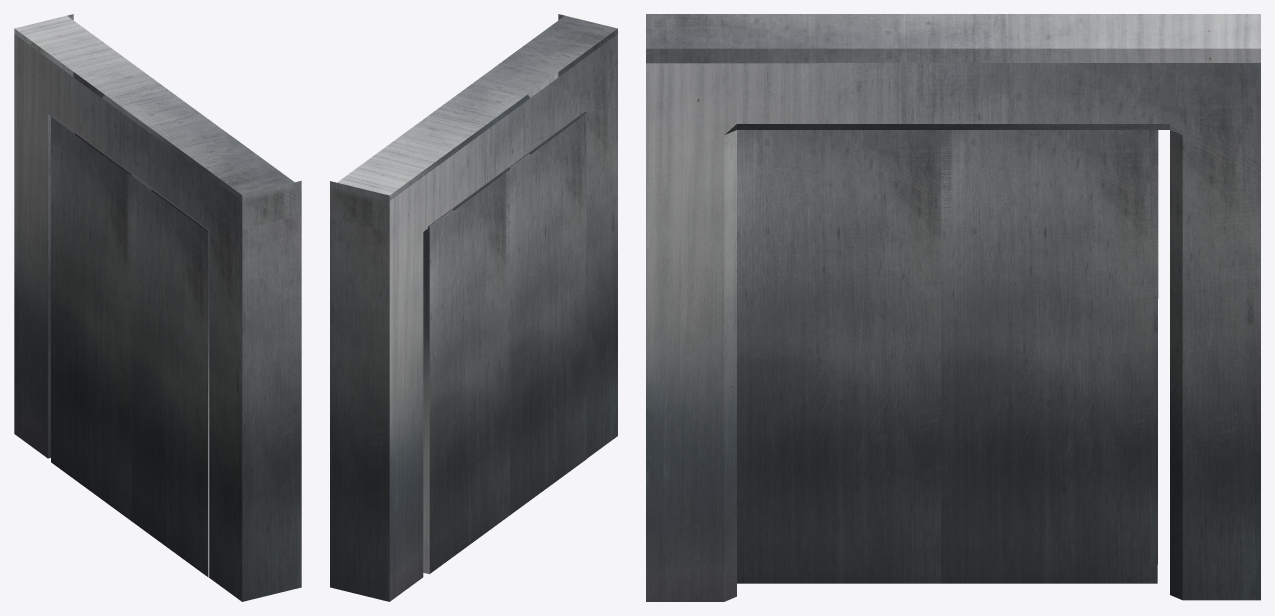
Rendered from LiftObj.FBX.
The picture shows the model from 3 angles, left to right: view 1: azimuth 30°, elevation 25°; view 2: azimuth 150°, elevation 25°; view 3: azimuth 270°, elevation 25°; orthographic projection. The views are drawn at different scales.
Parts seen in each view (by area): view 1: LiftFrame, DoorRight, DoorLeft; view 2: LiftFrame, DoorRight, DoorLeft; view 3: LiftFrame, DoorRight, DoorLeft.
Part boxes in pixels (x1,y1,x2,y2): LiftFrame: (14,14,301,601); DoorRight: (51,115,151,520); DoorLeft: (127,174,209,576); LiftFrame: (330,14,617,601); DoorRight: (423,167,509,574); DoorLeft: (506,111,586,515); LiftFrame: (646,14,1260,601); DoorRight: (941,130,1158,583); DoorLeft: (737,130,951,583).
Bounding box in the file's own units: 4.18 × 26.7 × 27.1.
